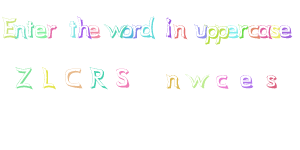C: (63, 65, 85, 90)
E: (2, 16, 17, 42)
L: (40, 66, 58, 93)
R: (88, 63, 108, 91)
S: (112, 63, 133, 93)
Z: (14, 61, 35, 90)
a: (259, 21, 272, 42)
c: (214, 73, 232, 92), (248, 21, 261, 41)
d: (142, 15, 158, 41)
e: (237, 71, 259, 94), (279, 21, 293, 42), (89, 21, 100, 42), (228, 23, 238, 41), (34, 24, 46, 38)
h: (77, 16, 90, 41)
i: (164, 17, 174, 42)
n: (159, 69, 185, 94), (173, 20, 188, 43), (14, 19, 27, 42)
o: (121, 23, 133, 39)
p: (217, 24, 228, 47), (207, 23, 217, 48)
r: (47, 20, 58, 42), (132, 21, 143, 42), (238, 21, 247, 42)
s: (261, 69, 285, 93), (270, 21, 282, 42)
t: (66, 15, 76, 41), (25, 20, 36, 40)
u: (193, 19, 208, 43)
w: (186, 72, 211, 93), (105, 21, 123, 41)
